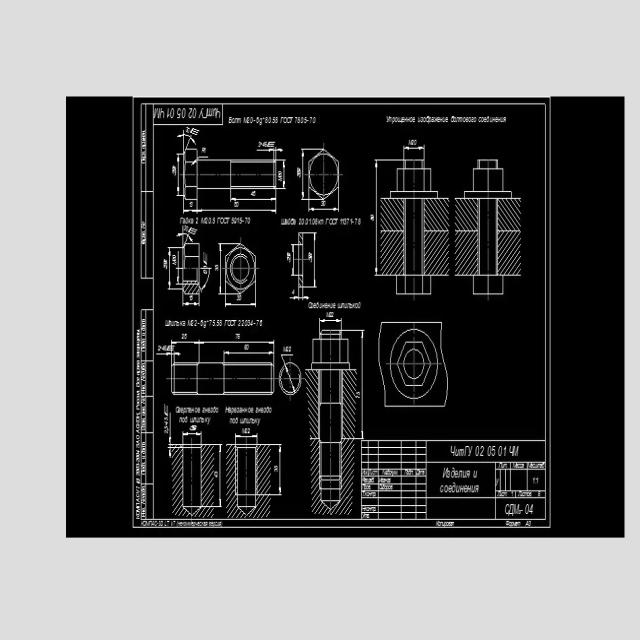marking_line: (169, 338, 274, 362), (198, 338, 276, 362), (196, 200, 279, 215), (356, 328, 365, 440), (373, 159, 381, 277), (304, 232, 317, 289), (167, 246, 182, 291), (213, 443, 223, 508), (230, 190, 278, 203), (223, 350, 275, 362), (270, 444, 282, 496), (403, 144, 425, 168), (225, 295, 259, 309), (309, 200, 341, 213), (218, 243, 225, 296), (301, 149, 308, 200), (178, 130, 197, 148), (256, 147, 284, 159), (200, 267, 213, 292), (175, 226, 194, 243), (277, 158, 287, 190), (174, 251, 183, 286), (176, 154, 183, 197), (318, 317, 342, 329), (234, 433, 258, 445), (290, 242, 298, 276), (182, 431, 202, 444), (156, 351, 181, 361), (183, 200, 199, 215), (289, 289, 309, 301), (183, 296, 201, 308), (374, 157, 403, 164), (168, 412, 172, 460), (192, 156, 208, 166), (280, 353, 295, 362), (163, 404, 169, 417)
numeric: (296, 167, 301, 180), (308, 252, 313, 264), (498, 445, 503, 457), (529, 504, 534, 516), (172, 164, 176, 177), (318, 218, 324, 226), (287, 252, 291, 264), (475, 445, 479, 457), (487, 444, 491, 456), (525, 503, 529, 515), (480, 445, 484, 456), (492, 446, 496, 457), (504, 446, 508, 457), (190, 426, 198, 431), (370, 213, 374, 222), (325, 218, 330, 225), (247, 217, 251, 225), (259, 319, 263, 327), (234, 332, 238, 340), (250, 116, 254, 124), (204, 319, 207, 329), (278, 177, 283, 183), (329, 312, 334, 318), (195, 217, 199, 224), (234, 217, 238, 224), (239, 217, 243, 224), (208, 217, 212, 224), (212, 319, 216, 326), (180, 332, 184, 339), (233, 201, 237, 208), (185, 126, 189, 133), (414, 138, 418, 145), (350, 218, 354, 225), (305, 218, 309, 225), (291, 288, 295, 295), (189, 294, 193, 301), (214, 471, 218, 478), (300, 117, 304, 124), (309, 117, 313, 124), (313, 117, 317, 124), (163, 421, 168, 426), (209, 319, 212, 327), (216, 318, 219, 326), (220, 319, 223, 327), (191, 319, 194, 327), (194, 319, 197, 327), (246, 319, 249, 327), (157, 345, 161, 351), (304, 116, 307, 124), (231, 217, 234, 224), (245, 218, 248, 225), (206, 217, 209, 224), (213, 217, 216, 224), (238, 320, 241, 327), (241, 319, 244, 326), (251, 320, 254, 327), (256, 319, 259, 326), (253, 190, 256, 197), (354, 218, 357, 225), (358, 218, 361, 225), (339, 218, 342, 225), (302, 218, 305, 225), (309, 218, 312, 225), (312, 218, 315, 225), (315, 218, 318, 225), (289, 345, 292, 352), (532, 477, 535, 484), (294, 117, 297, 124), (297, 117, 300, 124), (265, 117, 268, 124), (272, 116, 275, 123), (276, 117, 279, 124), (203, 270, 207, 275), (278, 171, 282, 176), (274, 468, 279, 472), (236, 201, 239, 207), (162, 345, 165, 351), (323, 200, 326, 206), (408, 139, 411, 145), (411, 139, 414, 145), (286, 346, 289, 352), (184, 334, 187, 340), (244, 344, 247, 350), (246, 344, 249, 350), (239, 295, 242, 301), (247, 117, 250, 123), (256, 117, 259, 123), (268, 117, 271, 123), (342, 218, 344, 226), (164, 430, 168, 434), (321, 201, 324, 206), (238, 334, 241, 339), (538, 492, 541, 497), (529, 521, 532, 526), (248, 319, 250, 326), (344, 218, 346, 225), (347, 218, 349, 225), (299, 218, 301, 225), (536, 477, 538, 484), (237, 218, 239, 224), (189, 201, 191, 207), (191, 201, 193, 207), (251, 191, 253, 197), (164, 426, 168, 429), (164, 417, 168, 420), (237, 295, 239, 301), (274, 465, 278, 468), (165, 346, 167, 350), (512, 492, 514, 496)
special_symbol: (202, 250, 209, 266), (191, 127, 200, 135), (267, 141, 275, 147)
